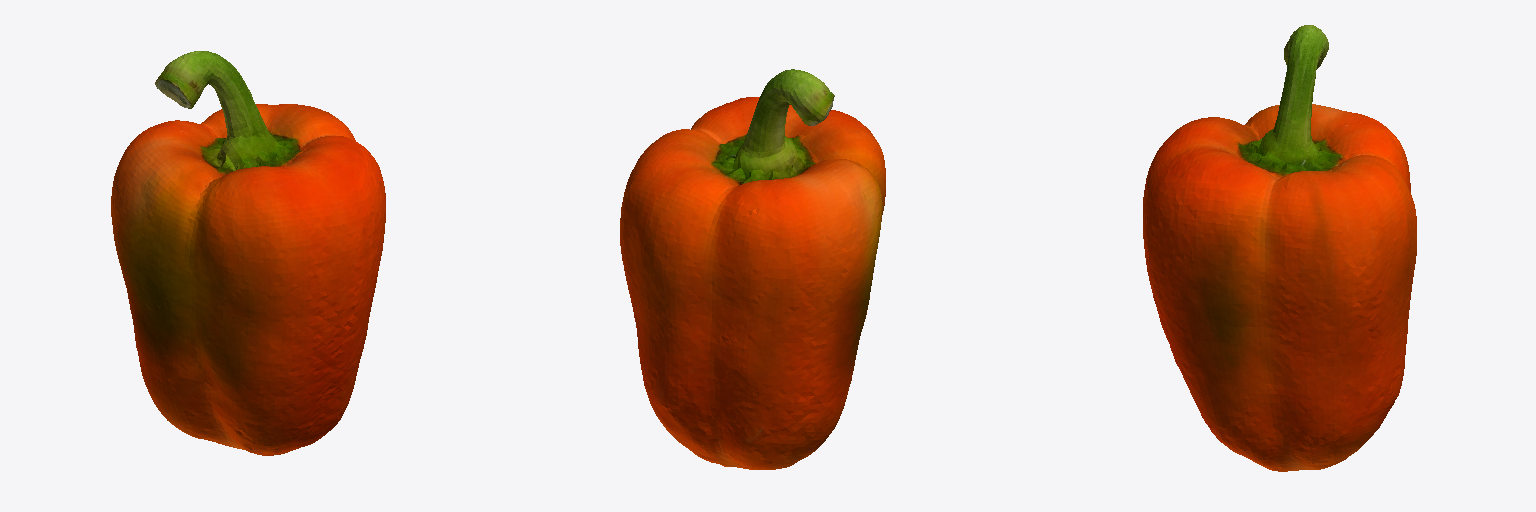
3 renders of one model, left to right at view 1: azimuth 30°, elevation 25°; view 2: azimuth 150°, elevation 25°; view 3: azimuth 270°, elevation 25°, orthographic.
Visible parts, largest first — view 1: Red_Paprika.001; view 2: Red_Paprika.001; view 3: Red_Paprika.001.
Boxes of the visible parts, box(x1,y1,x2,y2) form: Red_Paprika.001: box(111, 51, 385, 455); Red_Paprika.001: box(620, 69, 885, 469); Red_Paprika.001: box(1143, 25, 1416, 471).
Bounding box in the file's own units: 0.1009 × 0.172 × 0.1046.
Materials: 1 (1 with a texture image).